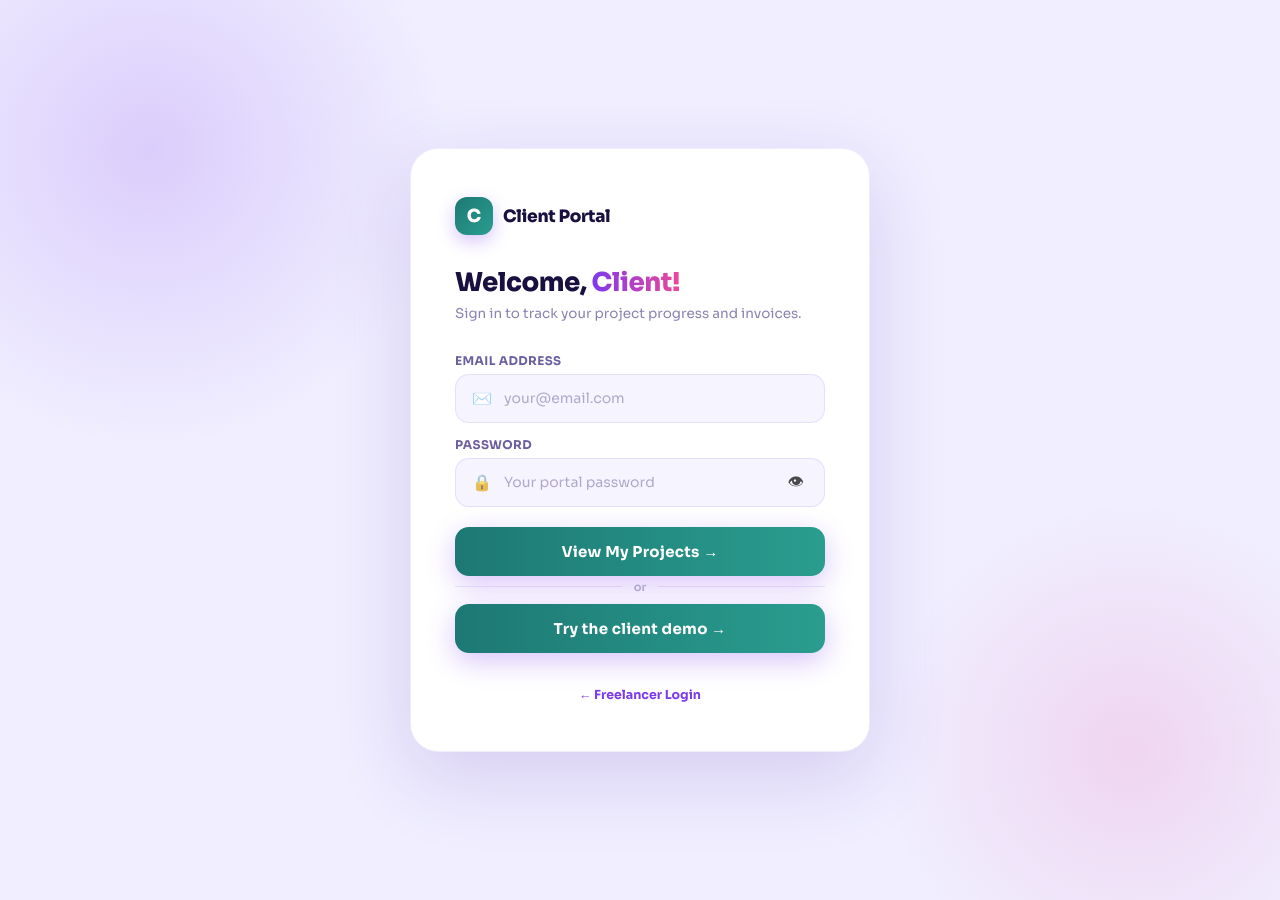
Scenario: client demo button › one click: POST /client-portal/demo-login, client token stored, lands on the portal
Click the button "Try the client demo →" at (640, 628), box [455,604,825,653]
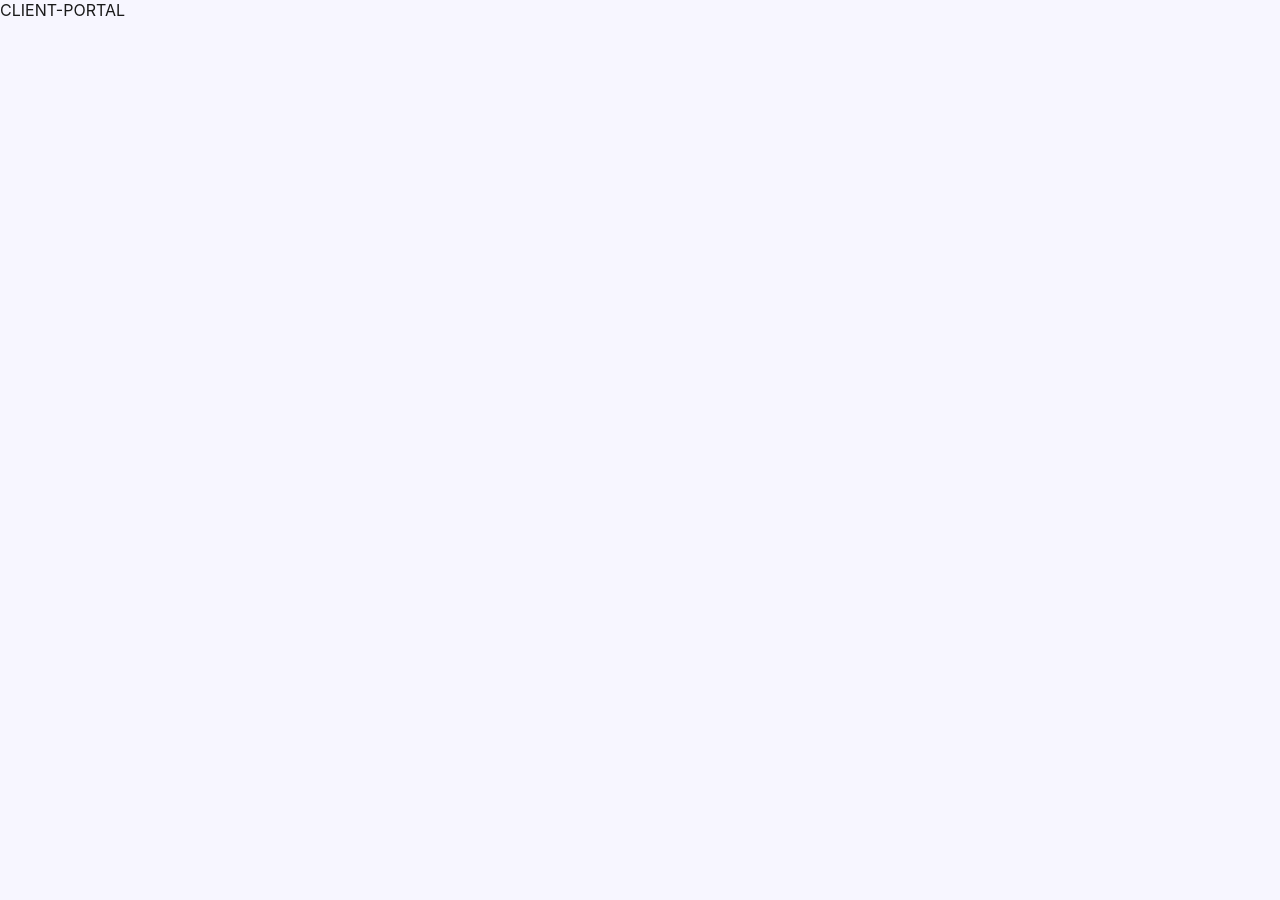
Result: the text "CLIENT-PORTAL" is shown at [0,0,125,20]
